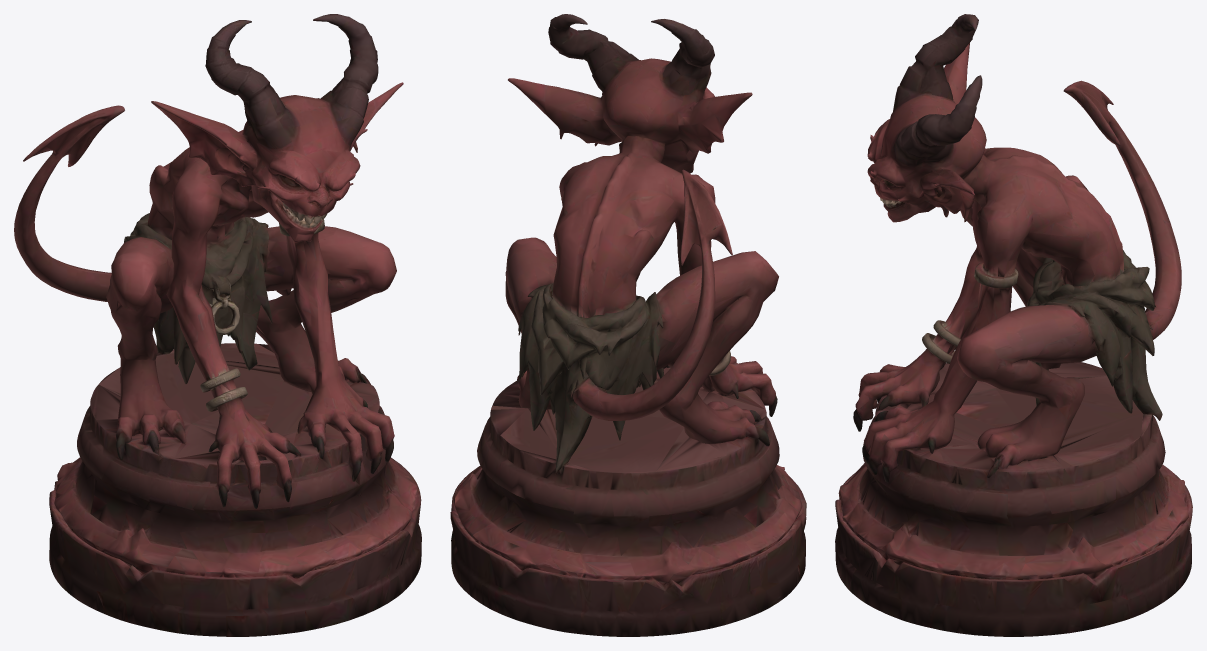
File: imp.glb
3 views of the same model, side by side, from view 1: azimuth 30°, elevation 25°; view 2: azimuth 150°, elevation 25°; view 3: azimuth 270°, elevation 25° (orthographic). The views are drawn at different scales.
Parts seen in each view (by area): view 1: Mesh_0; view 2: Mesh_0; view 3: Mesh_0.
Part boxes in pixels (bbox=[...]): Mesh_0: bbox=[14, 14, 421, 636]; Mesh_0: bbox=[450, 14, 806, 636]; Mesh_0: bbox=[835, 14, 1192, 636].
Size of the model in its own units: 0.6059 by 1 by 0.607.
Materials: 1 (1 with a texture image).
